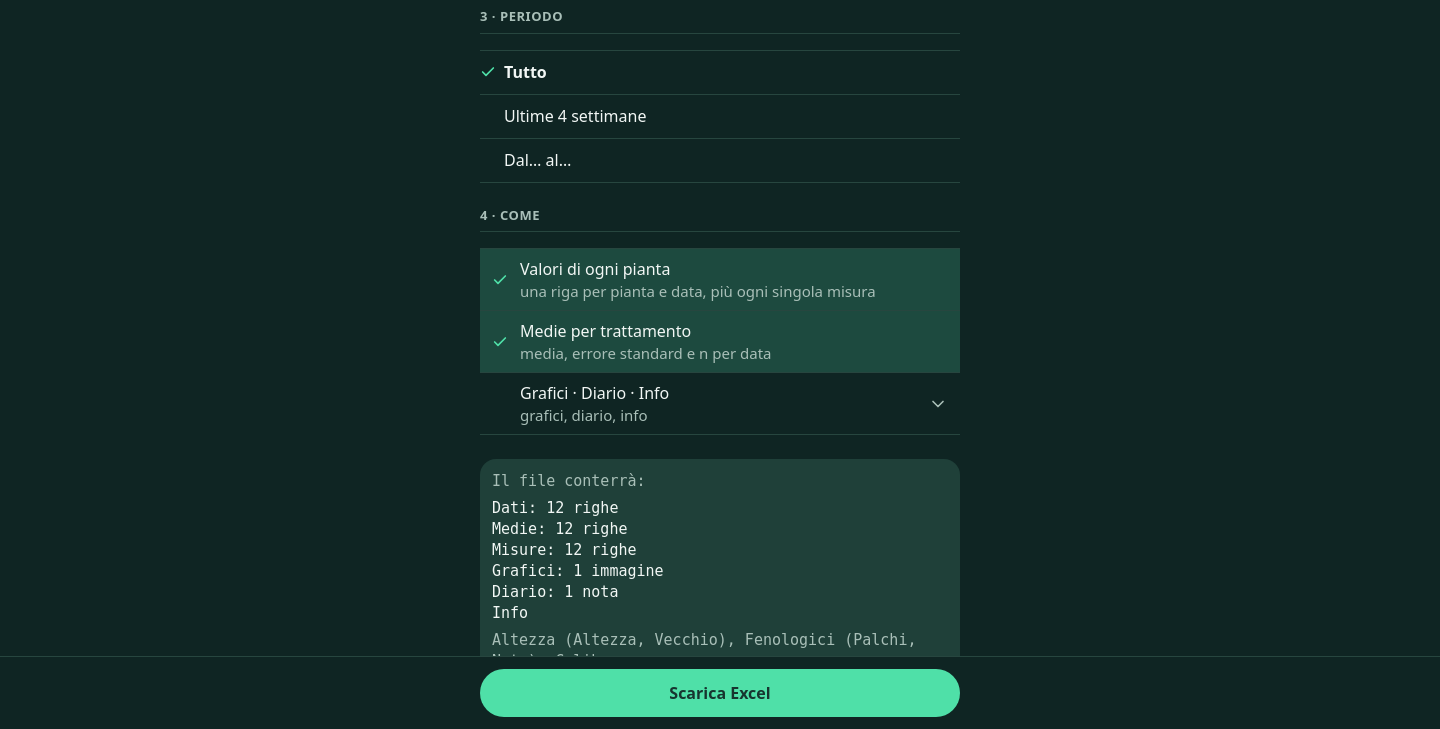
Esporta: le quattro scelte › Come: senza nessun contenuto non c'è una scelta e lo dice
(page scrolled)
expect the message named "Riepilogo" shows "Il file conterrà:": met, box x1=492 y1=472 x2=646 y2=490
Click the button "Valori di ogni pianta".
click(720, 280)  # box x1=480 y1=250 x2=960 y2=312
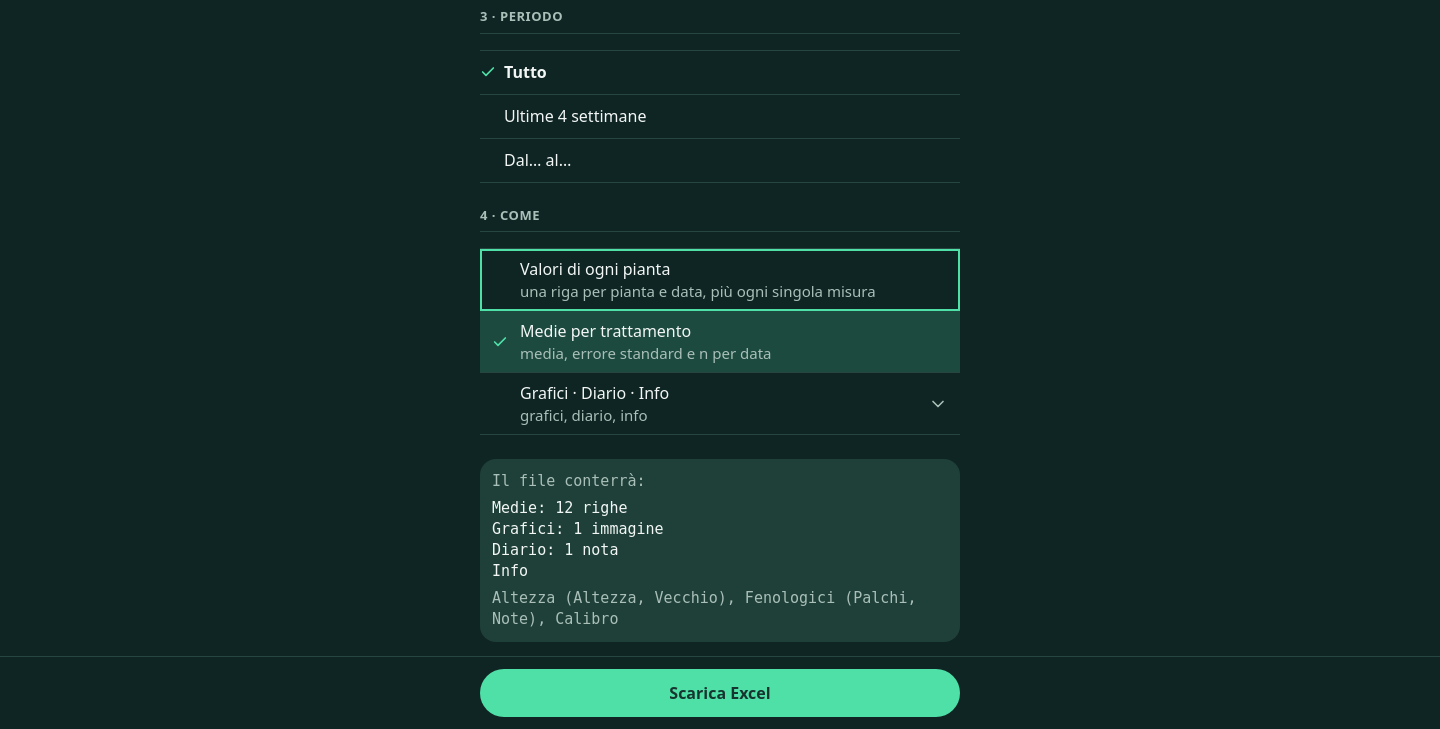
Click the button "Medie per trattamento media, errore standard e n per data".
click(720, 342)  # box x1=480 y1=312 x2=960 y2=374
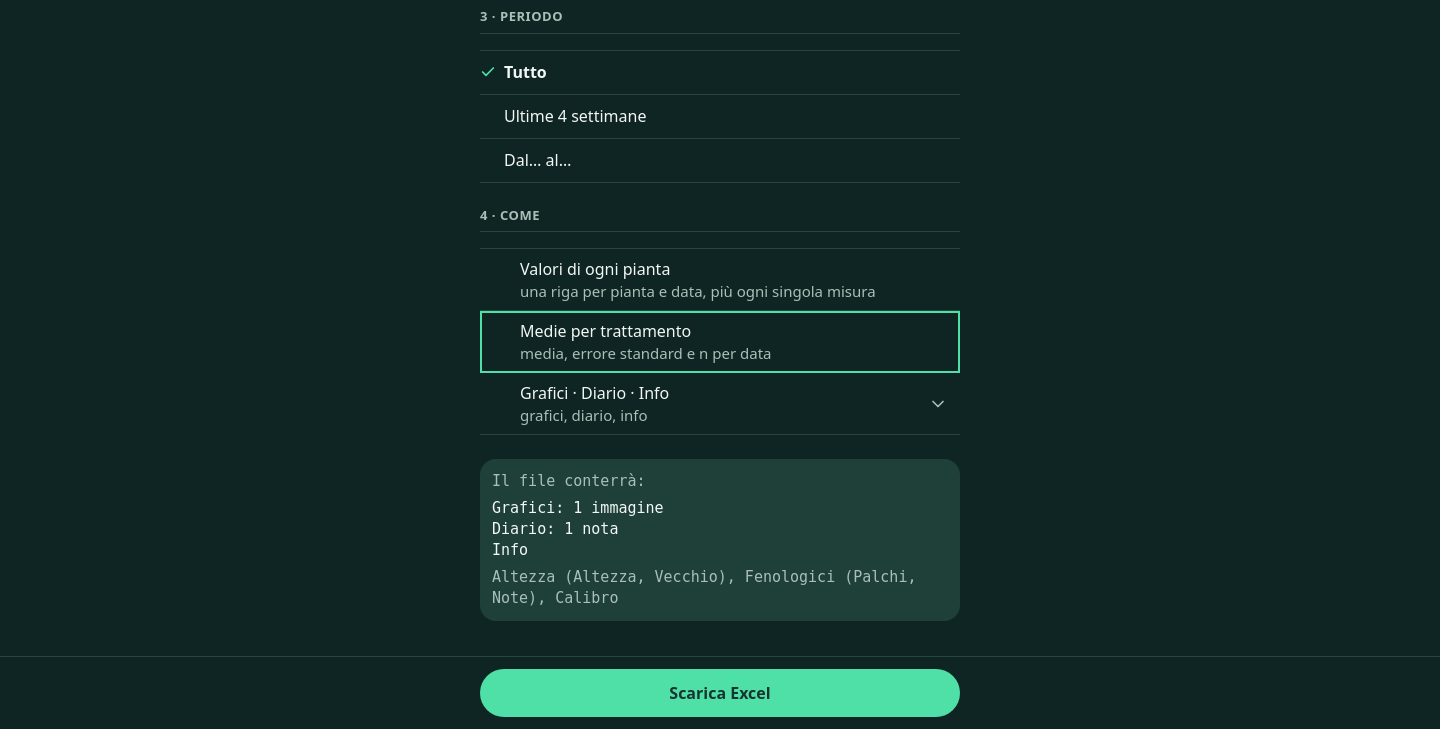
Click the button "Grafici · Diario · Info grafici, diario, info".
click(595, 393)  # box x1=480 y1=374 x2=960 y2=436
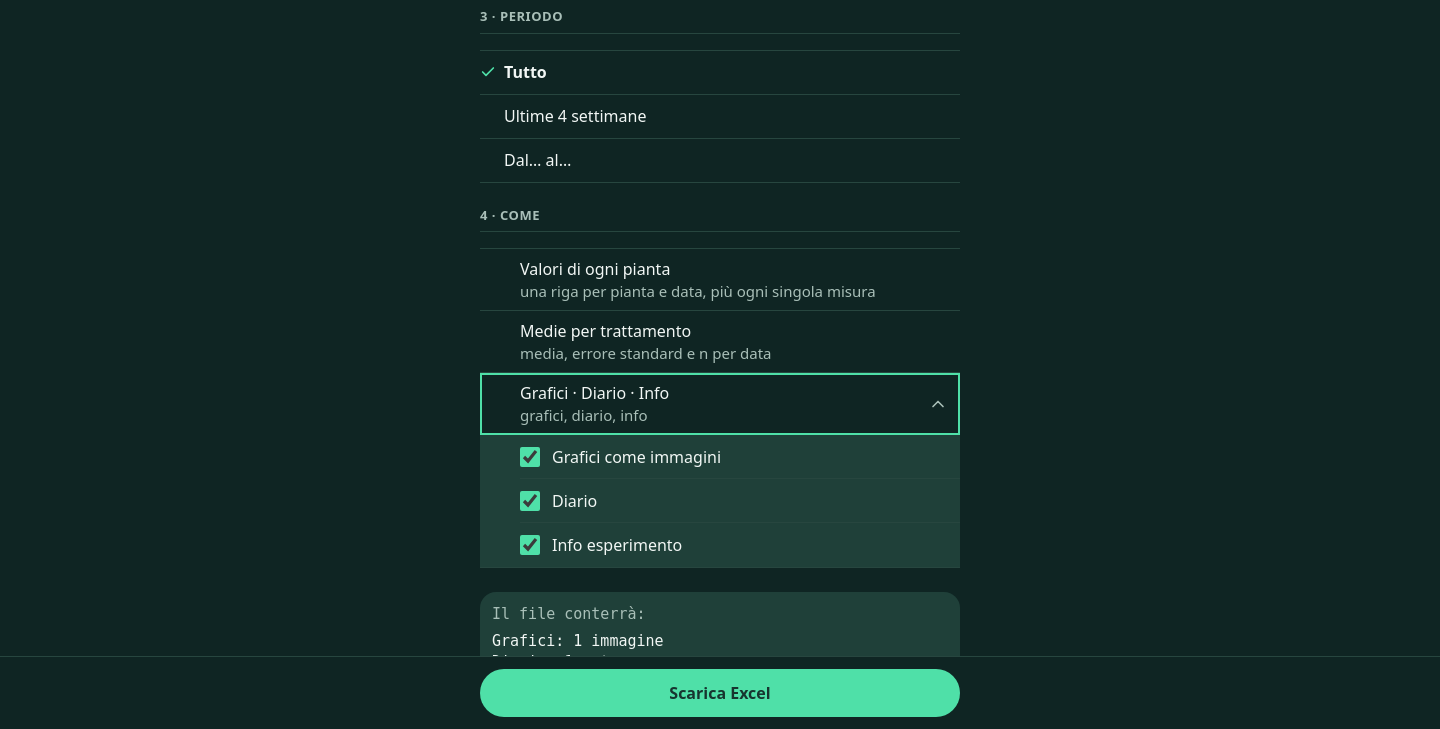
Click the checkbox labelled "Grafici come immagini".
click(530, 457)  # box x1=520 y1=447 x2=540 y2=467
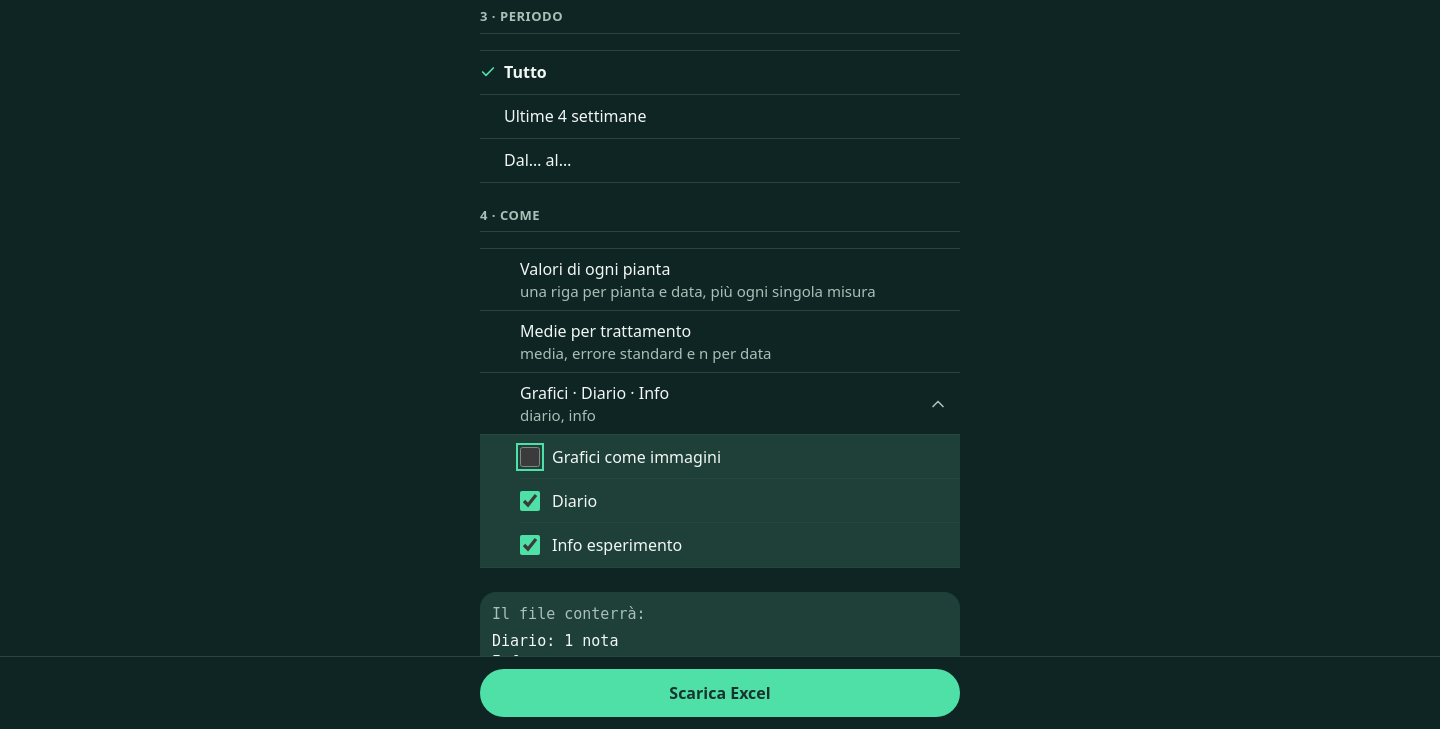
Click the checkbox labelled "Diario".
click(530, 501)  # box x1=520 y1=491 x2=540 y2=511
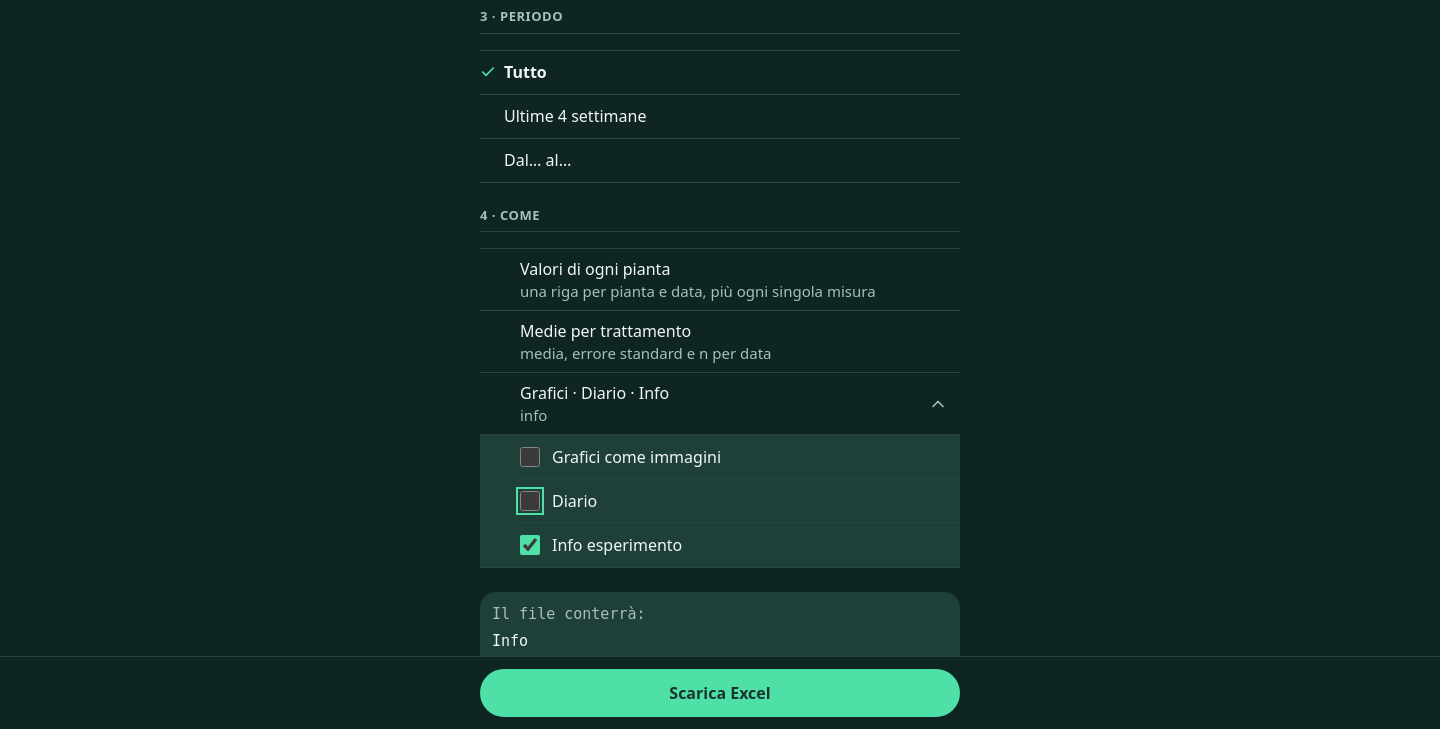
Click the checkbox labelled "Info esperimento".
click(530, 546)  # box x1=520 y1=536 x2=540 y2=556
(page scrolled)
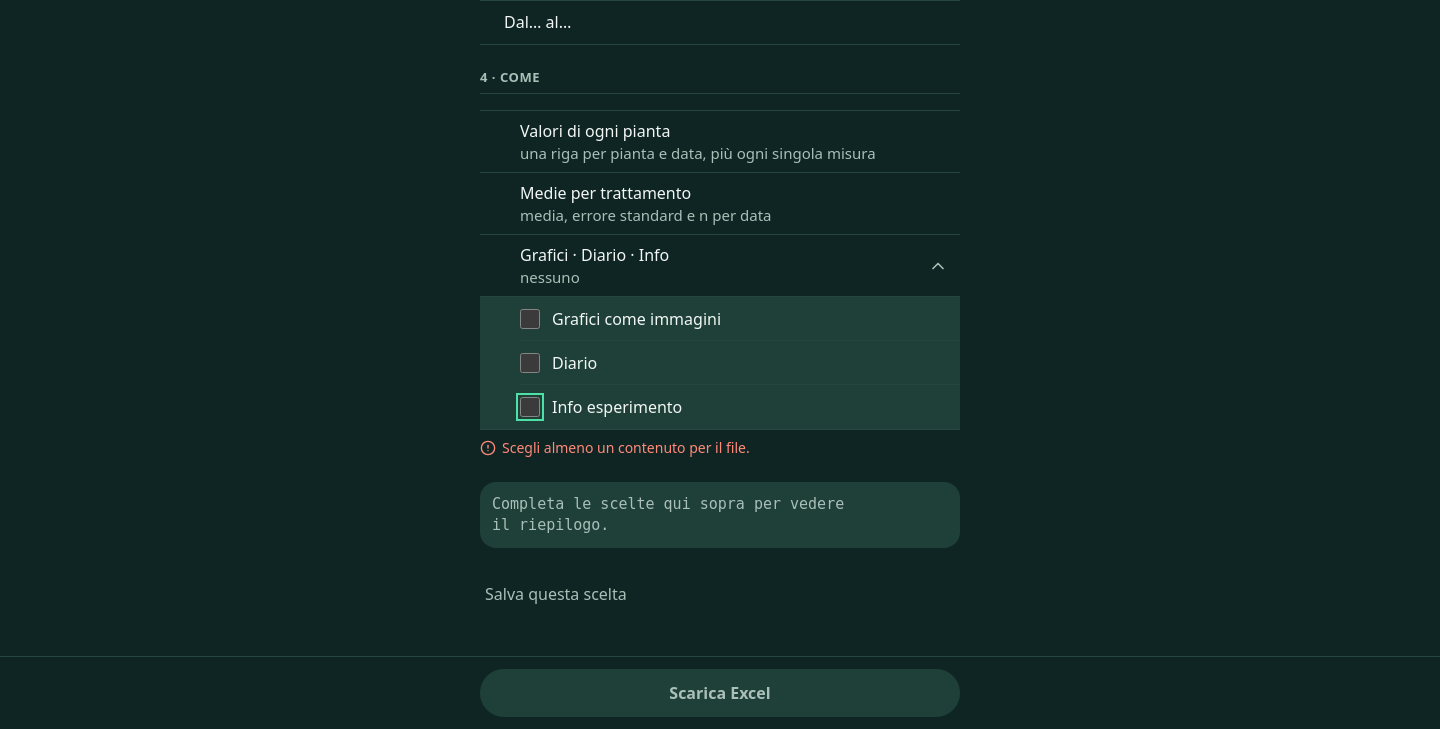
expect the text "Scegli almeno un contenuto per il file." is shown: met, box x1=480 y1=438 x2=750 y2=458
expect the button "Scarica Excel" is disabled: met, box x1=480 y1=669 x2=960 y2=717
expect the button "Salva questa scelta" is disabled: met, box x1=468 y1=572 x2=644 y2=616
